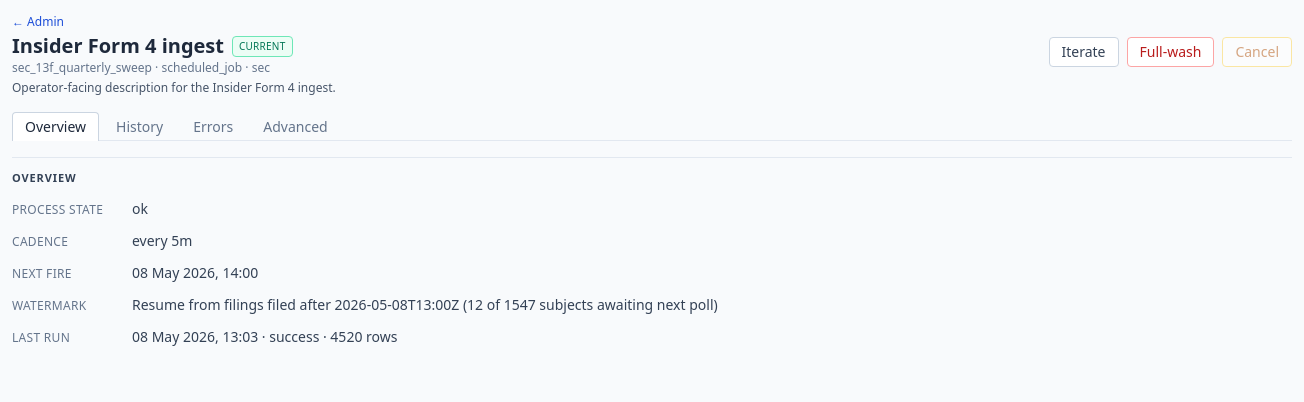
ProcessDetailPage — Advanced tab › surfaces 400 ApiError detail inline
Click the tab "Advanced" at (296,126), box [250,112,341,141]
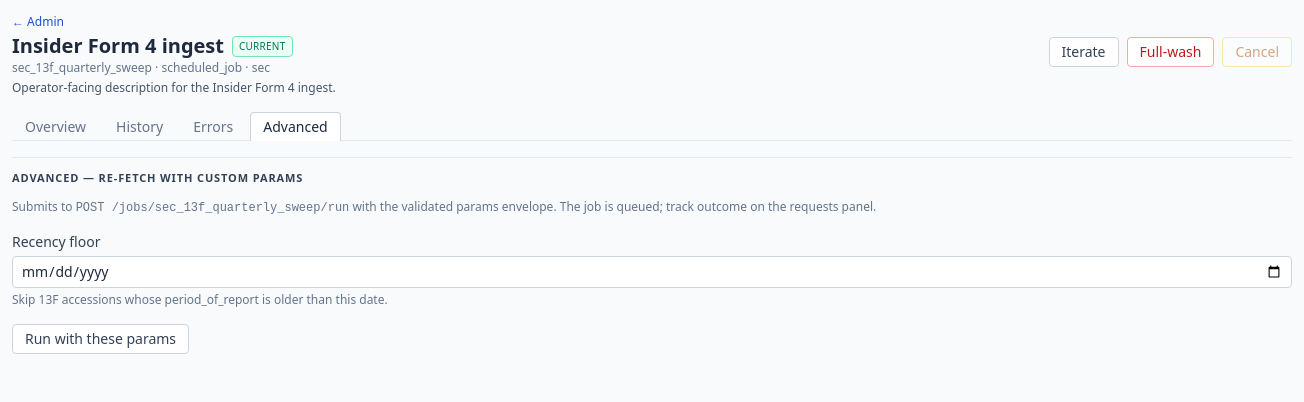
Type "2024-01-01" into the date field labelled "Recency floor" at (652,272), box [12,256,1292,288]
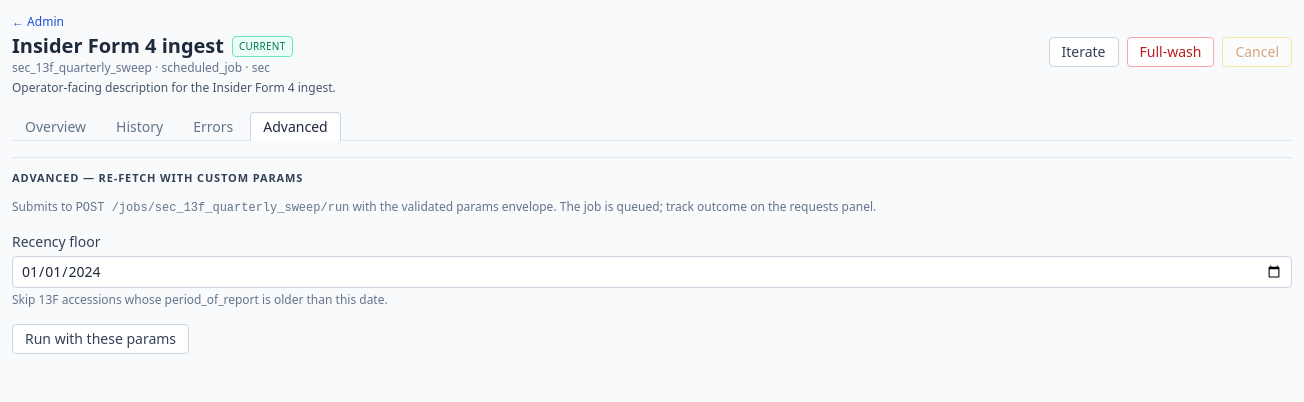
Click the button "Run with these params" at (101,338), box [12,324,189,354]
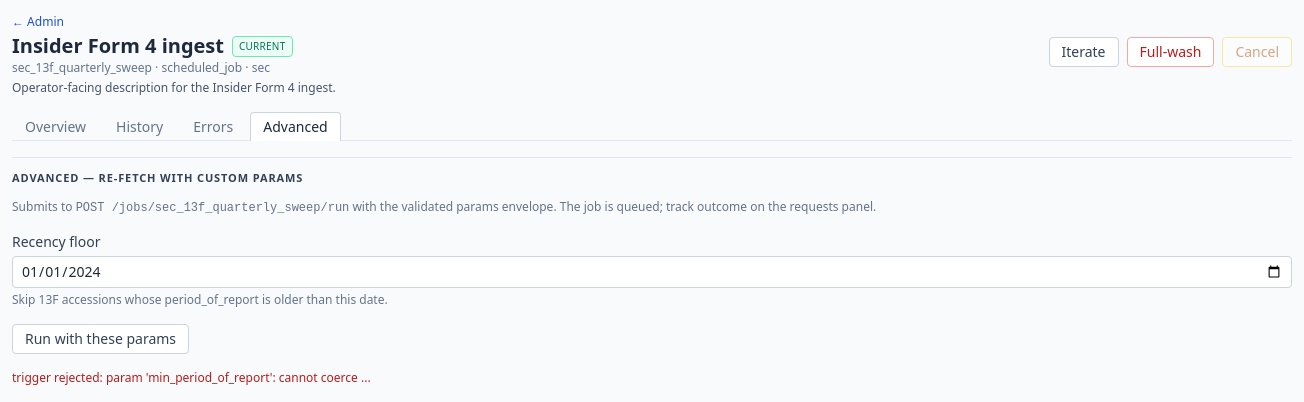
Expected: the message shows "trigger rejected", [12,368,100,386]
Expected: the message shows "cannot coerce", [100,368,371,386]
